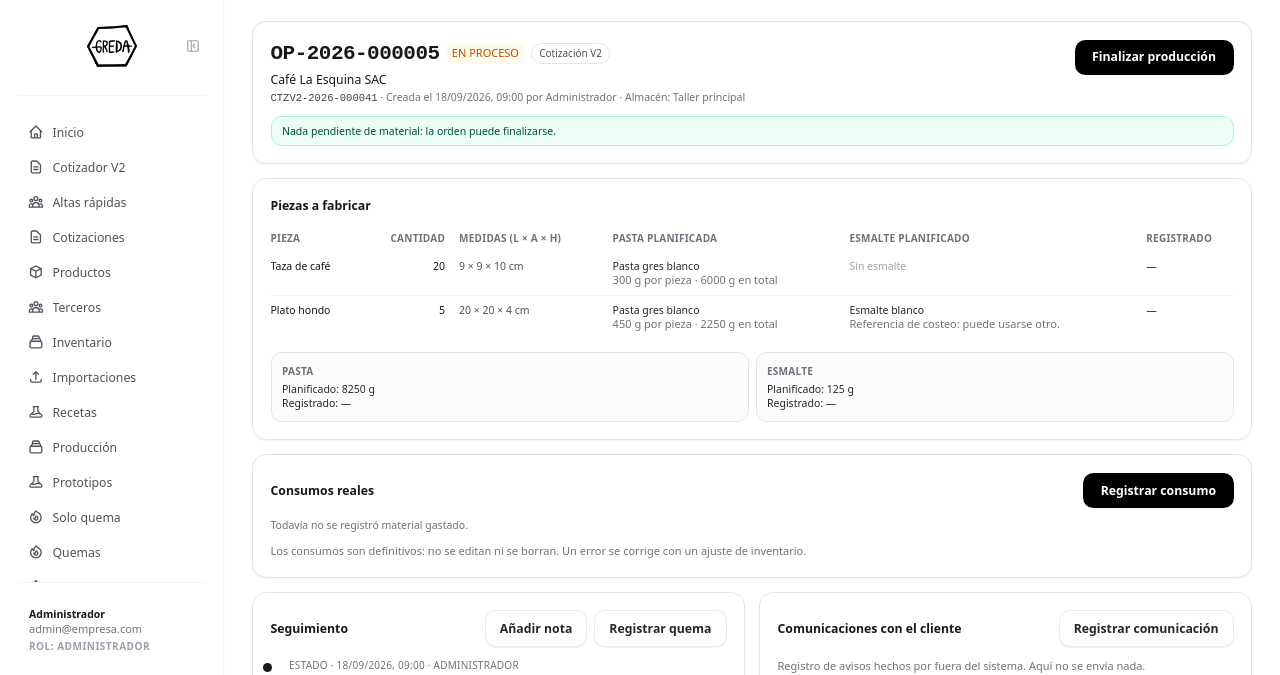
Test: ficha de una orden V2 › caso B: sin nada pendiente no hay bloqueo falso
Click the button "Finalizar producción" at (1154, 57), box [1075,40,1234,74]
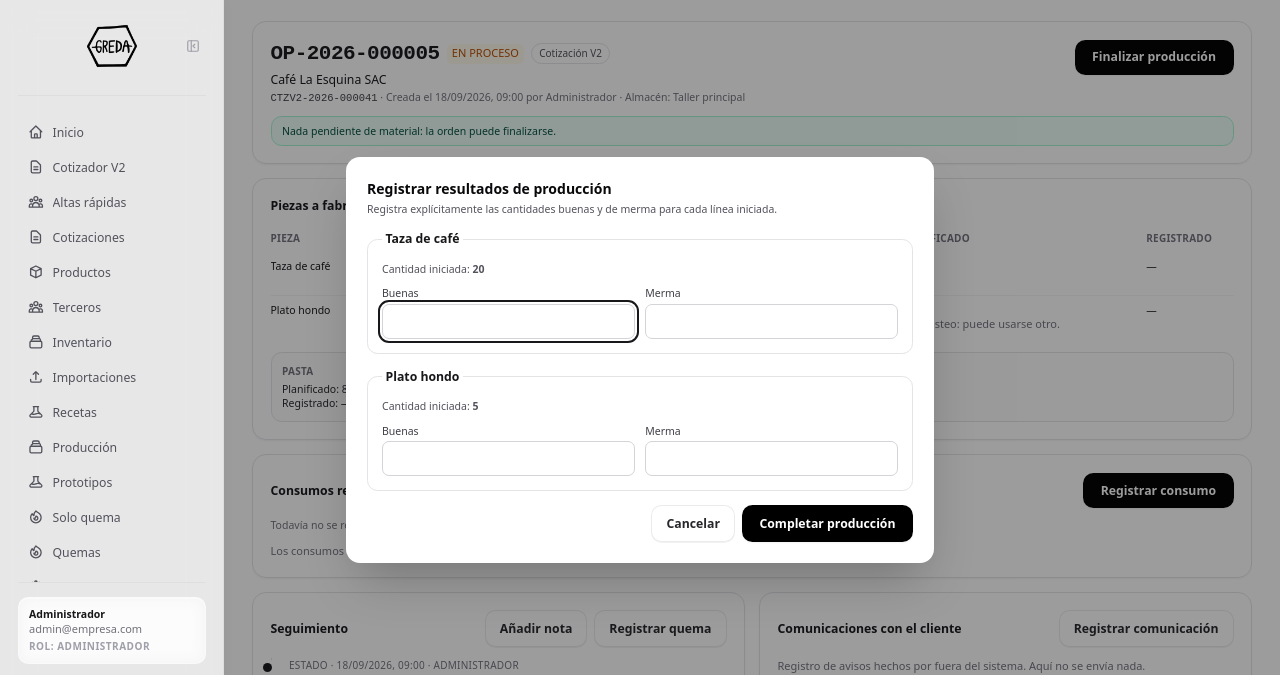
Type "20" into the 1st field labelled "Buenas" at (508, 321), box [382,304,635,339]
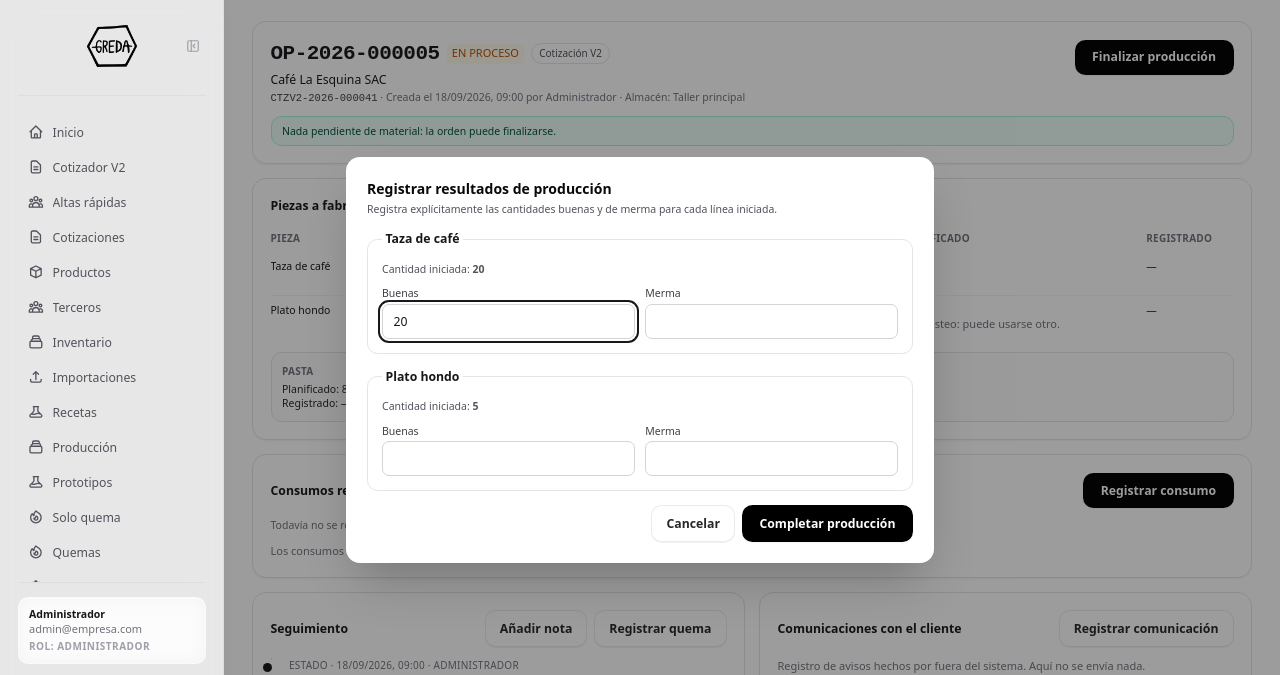
Type "0" into the 1st field labelled "Merma" at (772, 321), box [645,304,898,339]
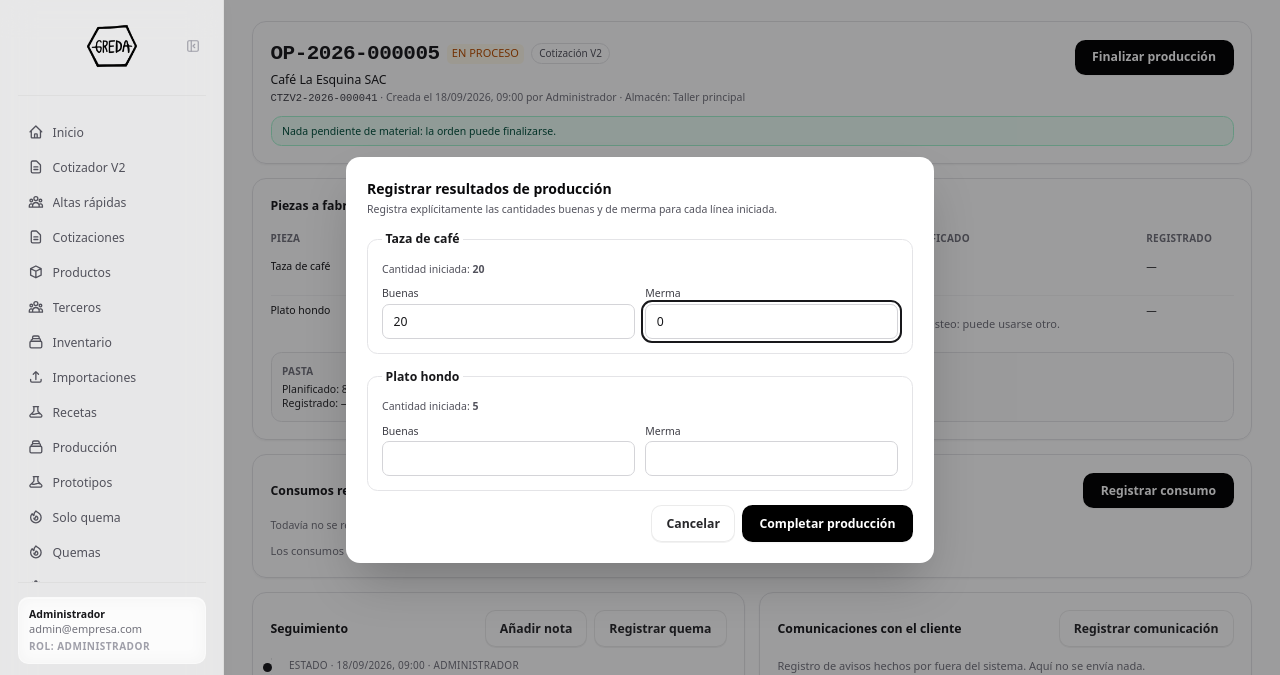
Type "5" into the 2nd field labelled "Buenas" at (508, 459), box [382,441,635,476]
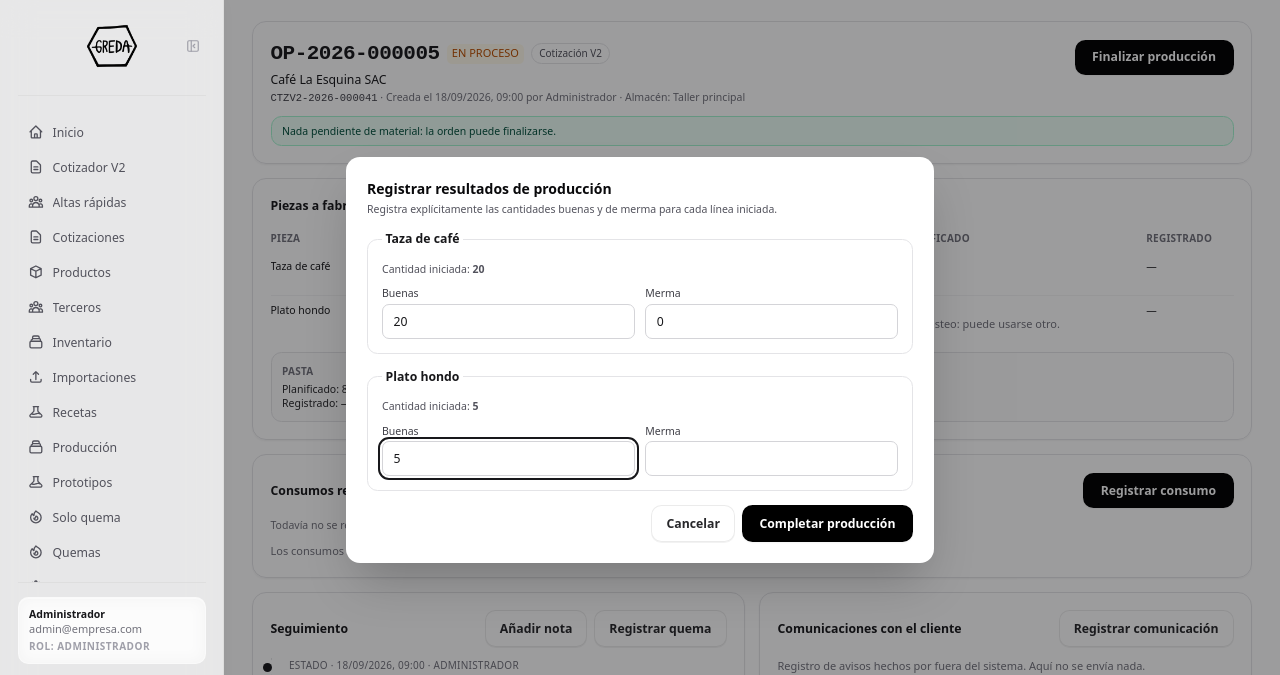
Type "0" into the 2nd field labelled "Merma" at (772, 459), box [645,441,898,476]
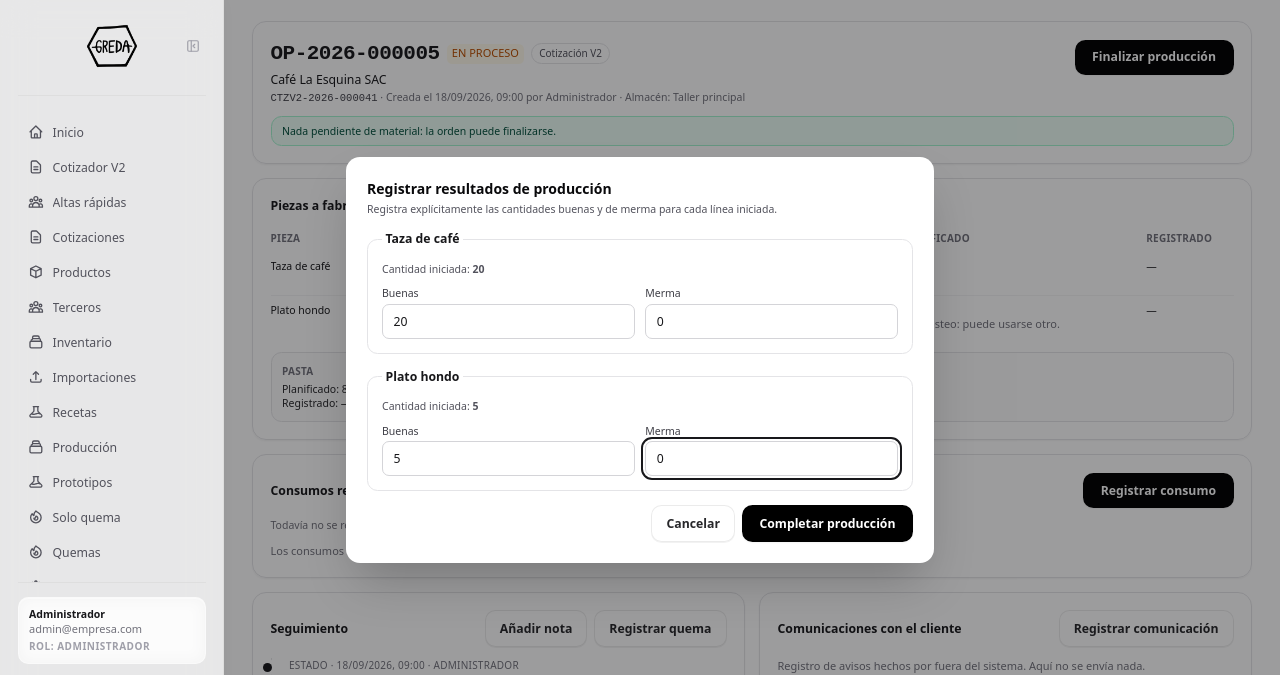
Click the button "Completar producción" at (828, 524), box [742,505,913,542]
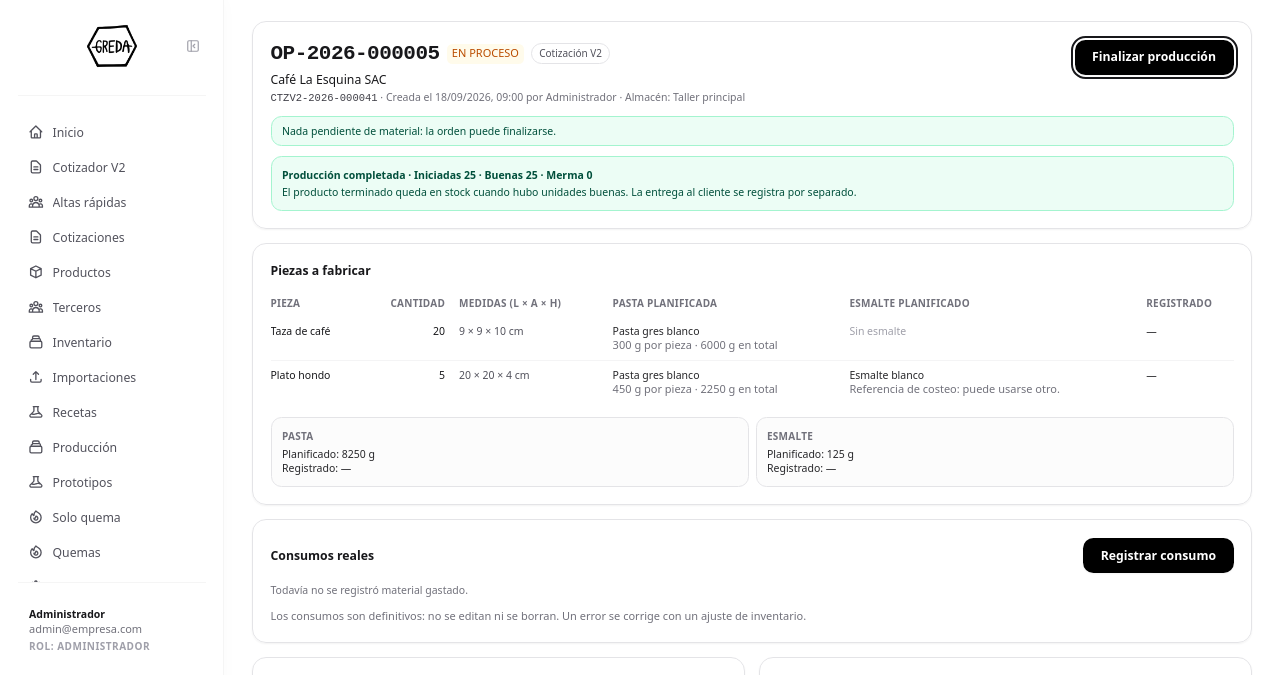
Expected: the message with test id "resultado-produccion" shows "Iniciadas 25 · Buenas 25 · Merma 0", [414,168,592,182]
Expected: the message with test id "resultado-produccion" shows "entrega al cliente se registra por separado", [282,185,856,199]
